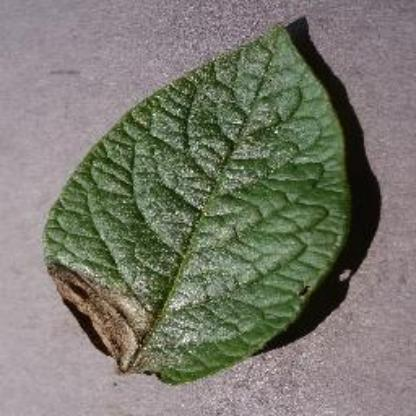Late-Blight: (40, 56, 394, 382)
